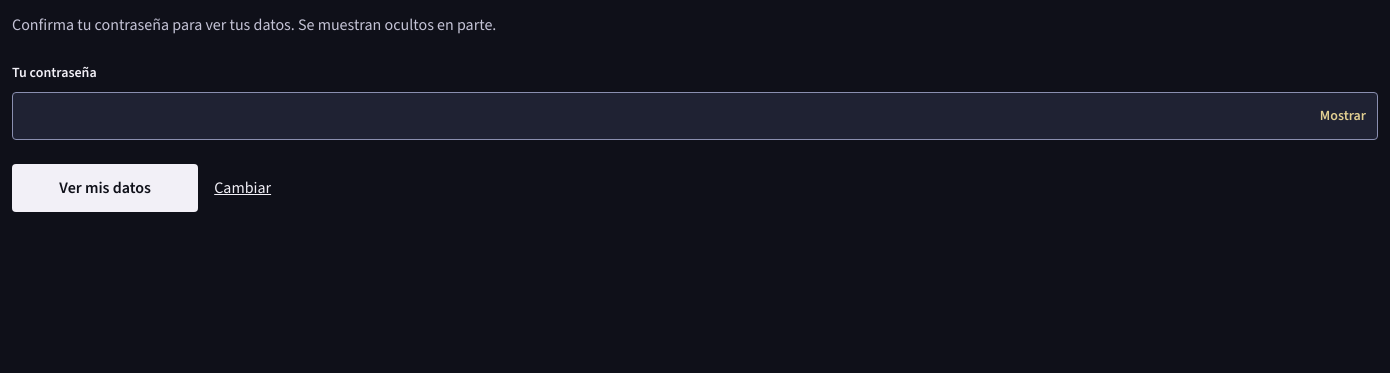
ver lo guardado › la contraseña equivocada se dice en el campo, y el campo queda vacío
Type "otra" into the password field labelled "Tu contraseña" at (695, 116), box [12,92,1378,140]
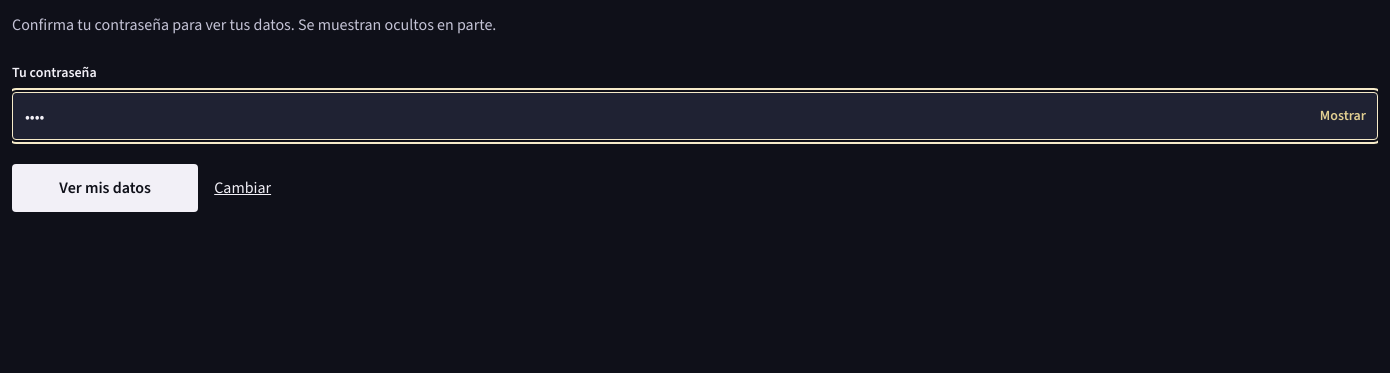
Click the button "Ver mis datos" at (105, 188), box [12,164,198,212]
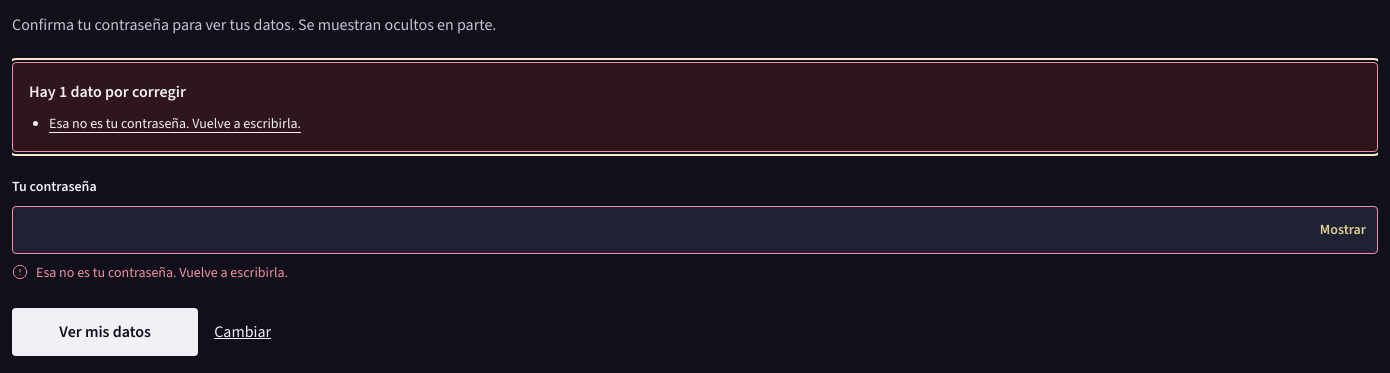
Now the link "Esa no es tu contraseña. Vuelve a escribirla." is shown, box [49,114,301,133]
Now the password field labelled "Tu contraseña" is empty, box [12,206,1378,254]
